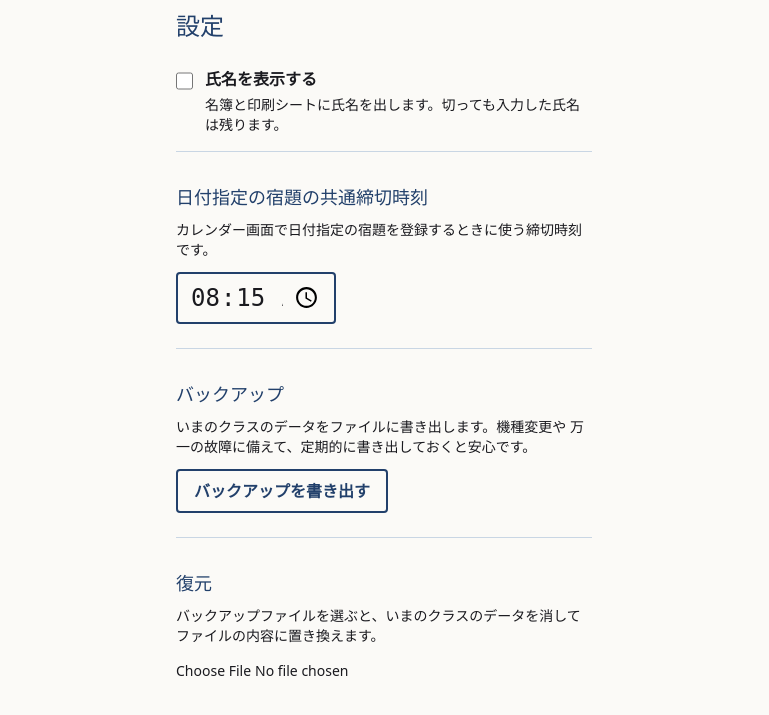
Scenario: 氏名の表示は名簿と印刷の両方に効く › ONにすると名簿に氏名が出る
The width and height of the screenshot is (769, 715).
Click the checkbox labelled "氏名を表示する" at (184, 81), box [176,71,193,91]
(page scrolled)
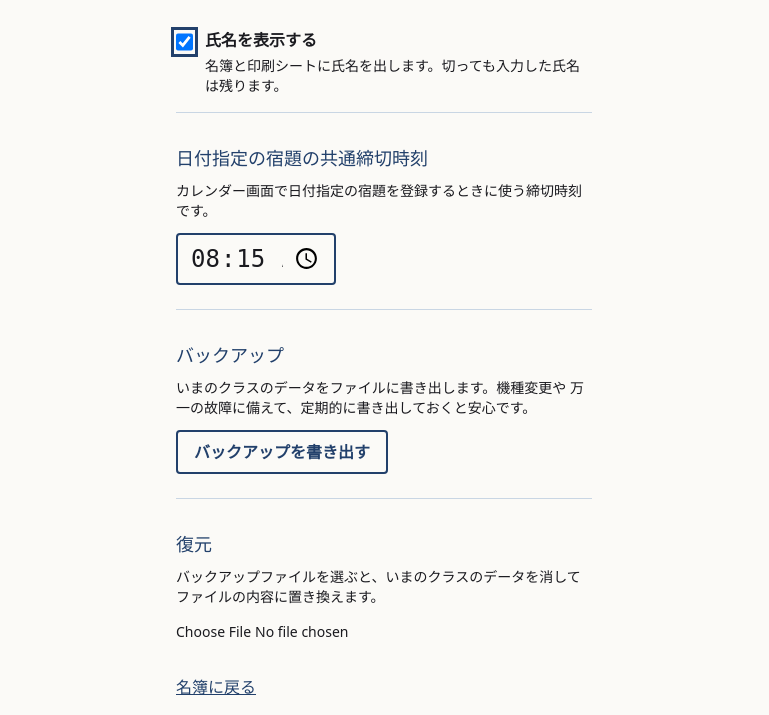
Click the link "名簿に戻る" at (216, 687), box [176,675,256,699]
(page scrolled)
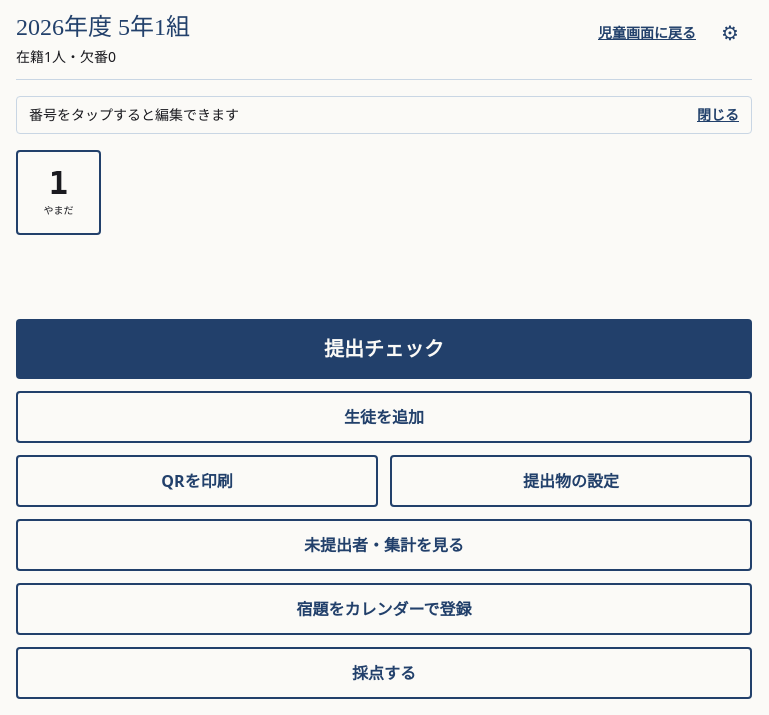
Now the text "やまだ" is shown, box [44,203,74,217]
